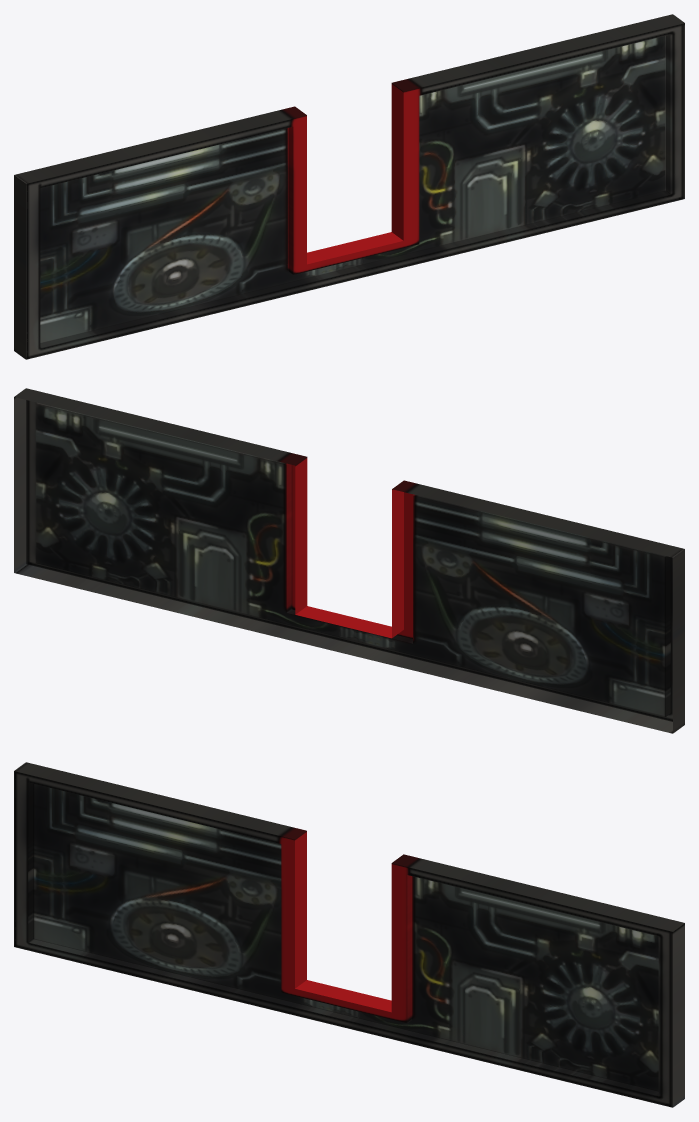
File: JUMP_CENTER.fbx
3 views of the same model, one above another, from view 1: azimuth 30°, elevation 25°; view 2: azimuth 150°, elevation 25°; view 3: azimuth 330°, elevation 25° (orthographic).
Parts seen in each view (by area): view 1: wall6; view 2: wall6; view 3: wall6.
Boxes of the visible parts, x1,y1,x2,y2 form: wall6: (14,14,684,359); wall6: (14,388,684,733); wall6: (14,762,684,1107).
Bounding box in the file's own units: 40.08 × 10.23 × 1.27.
1 material, 1 textured.
